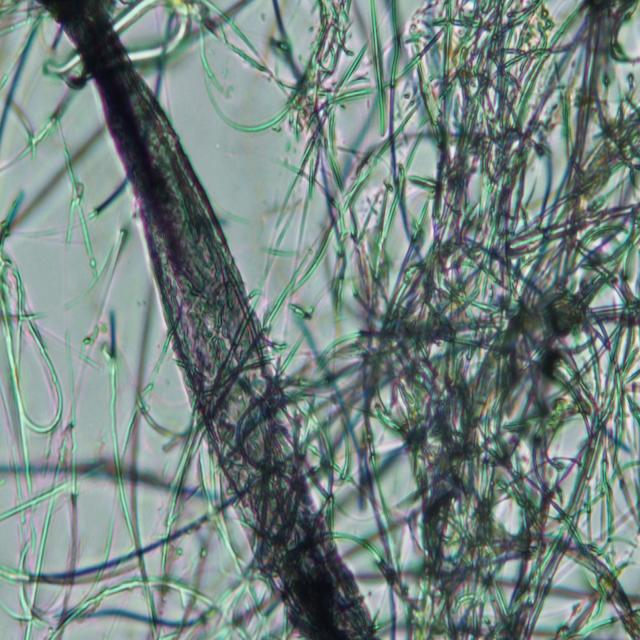Background material: (337, 0, 640, 638), (195, 1, 378, 409), (149, 420, 248, 572), (0, 517, 76, 639)
Cotton: (39, 0, 379, 639)
Glass filter fibre: (39, 578, 246, 640), (10, 262, 66, 434), (100, 345, 136, 551), (56, 114, 97, 278), (110, 0, 193, 63), (0, 479, 70, 522), (367, 0, 387, 137), (0, 2, 43, 39), (42, 52, 83, 76)
